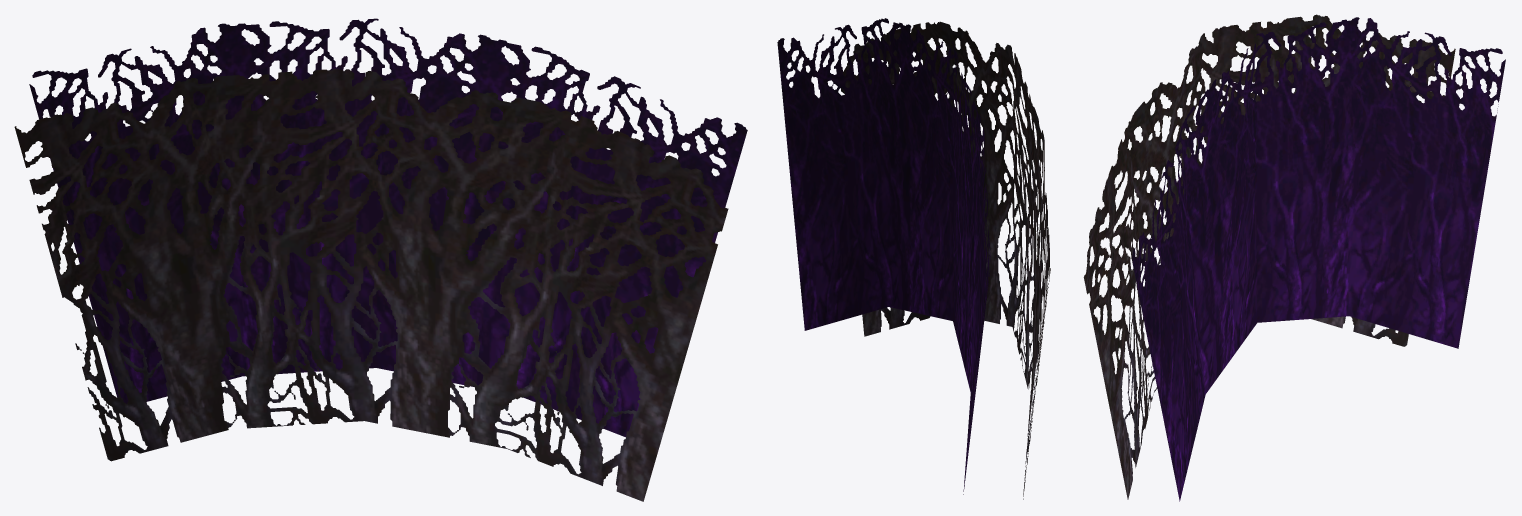
The model's file is EKH_ENTRANCE_PS_EN_TREE_LINE939837.fbx.
3 views of the same model, side by side, from view 1: azimuth 30°, elevation 25°; view 2: azimuth 150°, elevation 25°; view 3: azimuth 270°, elevation 25° (orthographic). The views are drawn at different scales.
Visible parts, largest first — view 1: EKH_ENTRANCE_PS_EN_TREE_LINE939837; view 2: EKH_ENTRANCE_PS_EN_TREE_LINE939837; view 3: EKH_ENTRANCE_PS_EN_TREE_LINE939837.
Boxes of the visible parts, x1,y1,x2,y2 form: EKH_ENTRANCE_PS_EN_TREE_LINE939837: (14, 18, 747, 501); EKH_ENTRANCE_PS_EN_TREE_LINE939837: (777, 18, 1050, 499); EKH_ENTRANCE_PS_EN_TREE_LINE939837: (1083, 14, 1505, 501).
Size of the model in its own units: 221769 by 187806 by 184615.
Materials: 2 (2 with a texture image).
